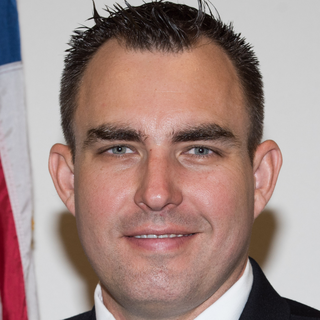eye: (85, 134, 149, 167), (172, 138, 229, 169)
